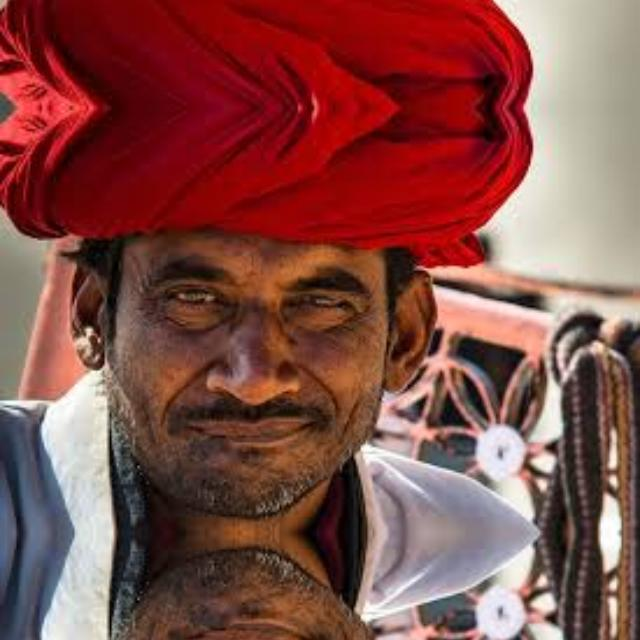person: (0, 107, 534, 533), (0, 0, 534, 107), (0, 533, 534, 640)
